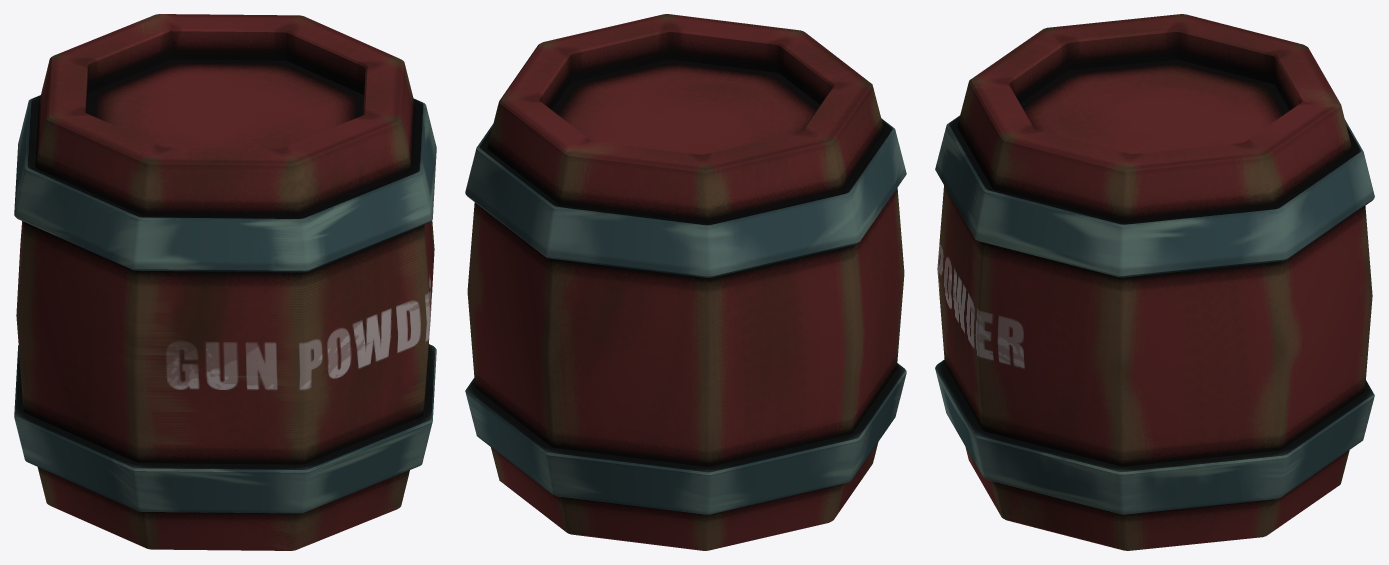
Rendered from Sm_barrell.FBX.
3 renders of one model, left to right at view 1: azimuth 30°, elevation 25°; view 2: azimuth 150°, elevation 25°; view 3: azimuth 270°, elevation 25°, orthographic.
Parts seen in each view (by area): view 1: Cylinder001; view 2: Cylinder001; view 3: Cylinder001.
Part boxes in pixels (box(x1,y1,x2,y2)): Cylinder001: box(14, 14, 436, 550); Cylinder001: box(465, 14, 906, 550); Cylinder001: box(935, 14, 1374, 550).
Size of the model in its own units: 125 by 119 by 125.
